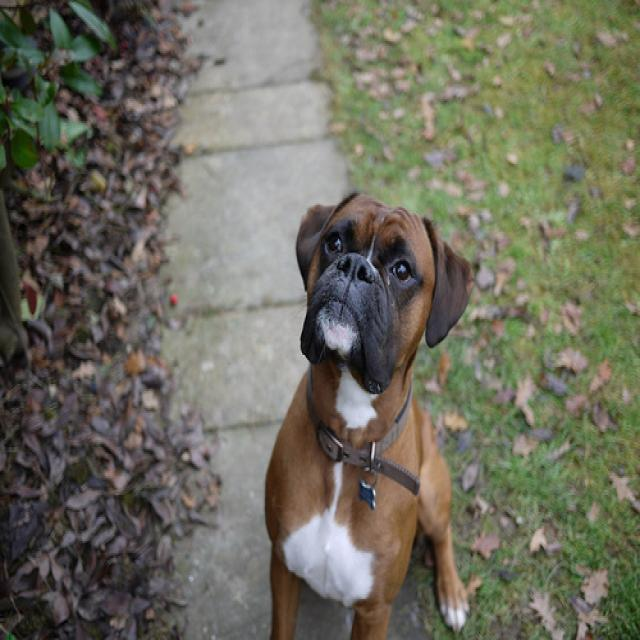dog: (293, 190, 474, 389)
